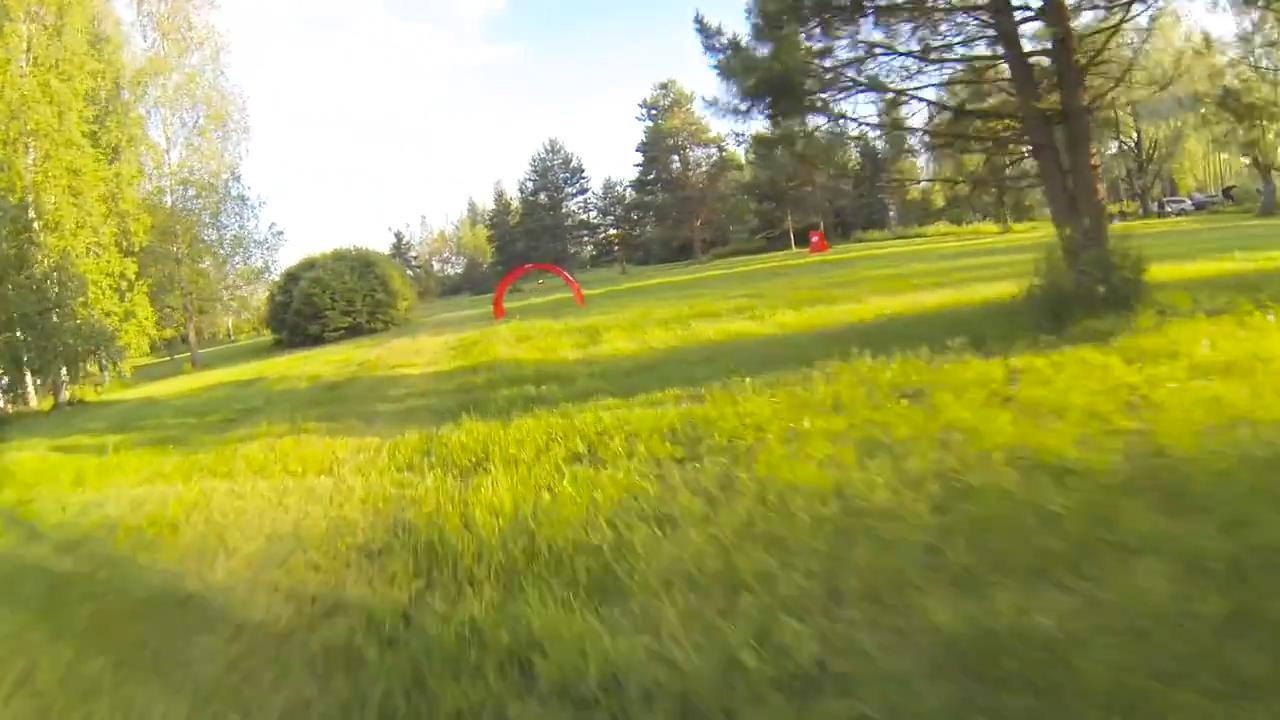gate: (491, 260, 588, 320)
